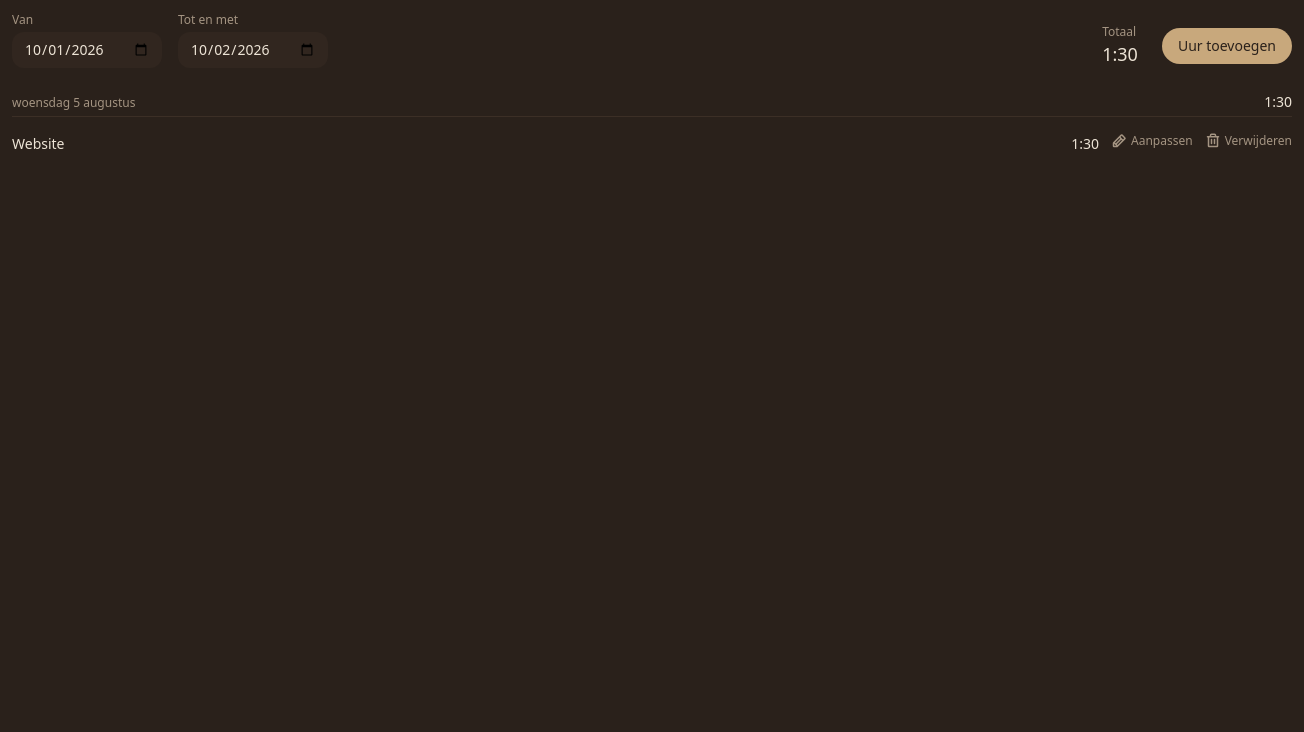
deleting an entry behind an undo › takes the row off the screen and offers it back
Click the button "Verwijderen" at (1248, 141), box [1205,133,1292,149]
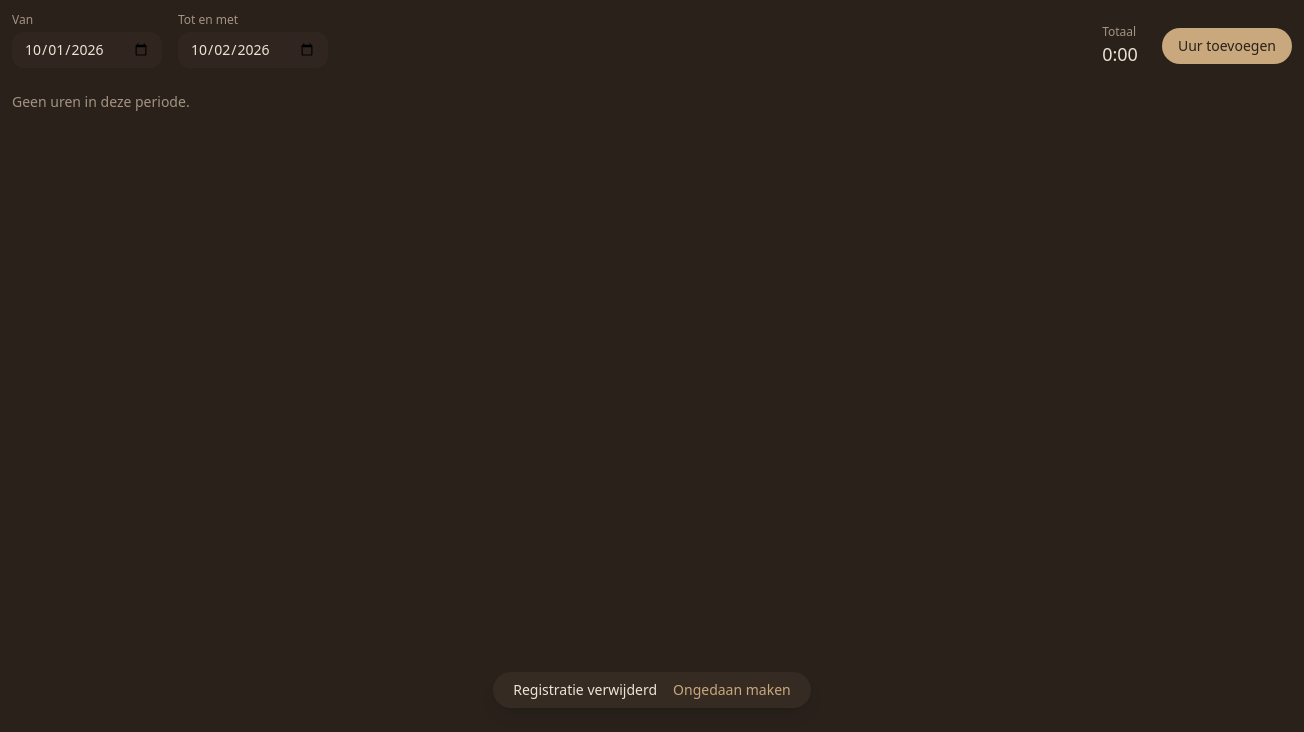
Check: the list item "Website 1:30 Aanpassen Verwijderen" is gone
Check: the message shows "Registratie verwijderd", box [513,680,657,699]
